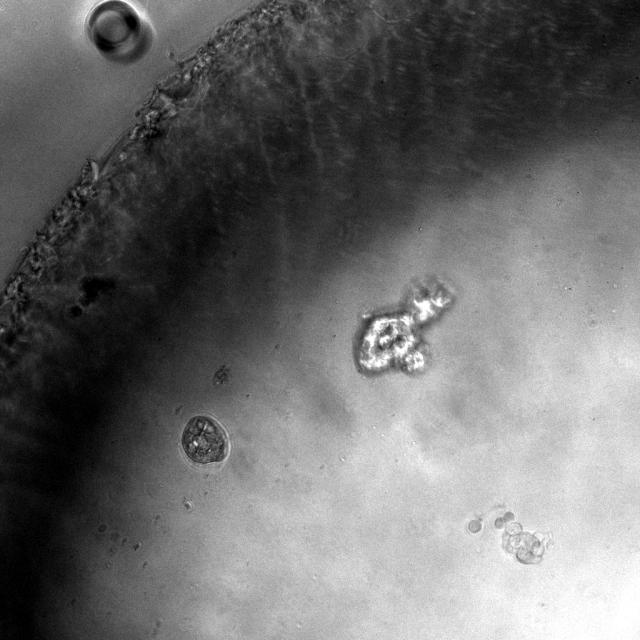organoid: (354, 281, 453, 374), (493, 511, 552, 564), (182, 416, 228, 463), (467, 517, 483, 534)
